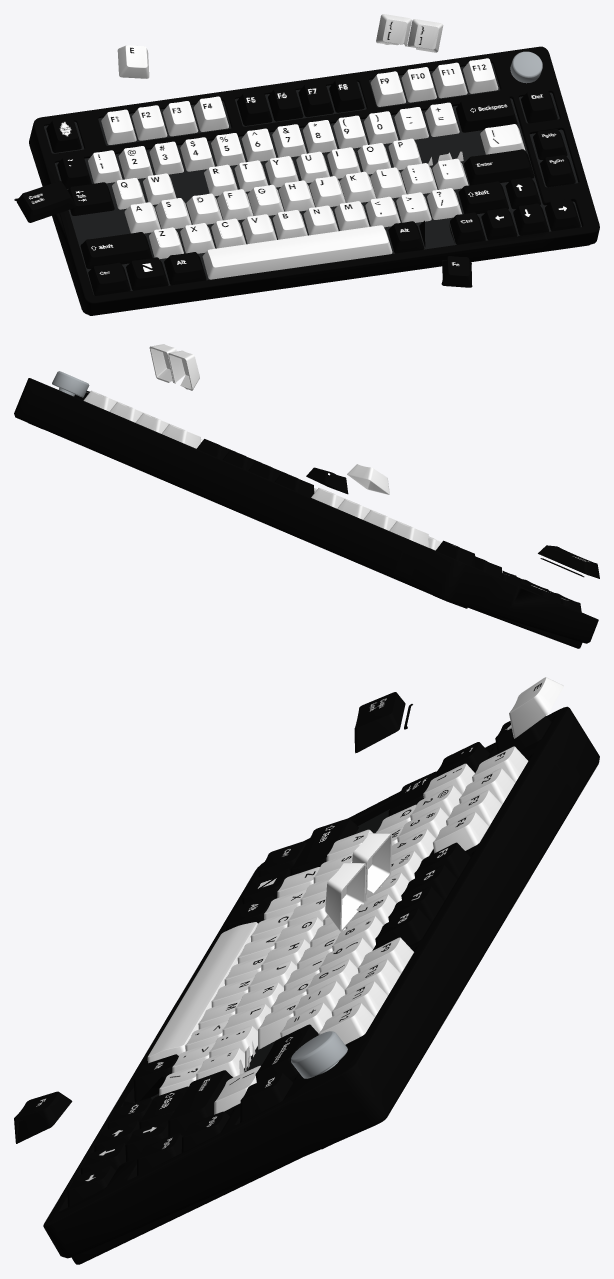
File: keyboard.glb
The picture shows the model from 3 angles, top to bottom: view 1: azimuth 30°, elevation 25°; view 2: azimuth 150°, elevation 25°; view 3: azimuth 270°, elevation 25°; orthographic projection. The views are drawn at different scales.
Visible parts, largest first — view 1: Object_10; view 2: Object_10; view 3: Object_10.
Part boxes in pixels (x1=…): Object_10: x1=14, y1=14, x2=599, y2=315; Object_10: x1=14, y1=344, x2=599, y2=648; Object_10: x1=14, y1=677, x2=599, y2=1264.
Bounding box in the file's own units: 13.8 × 5.13 × 7.81.
Materials: 21 (17 with a texture image).
